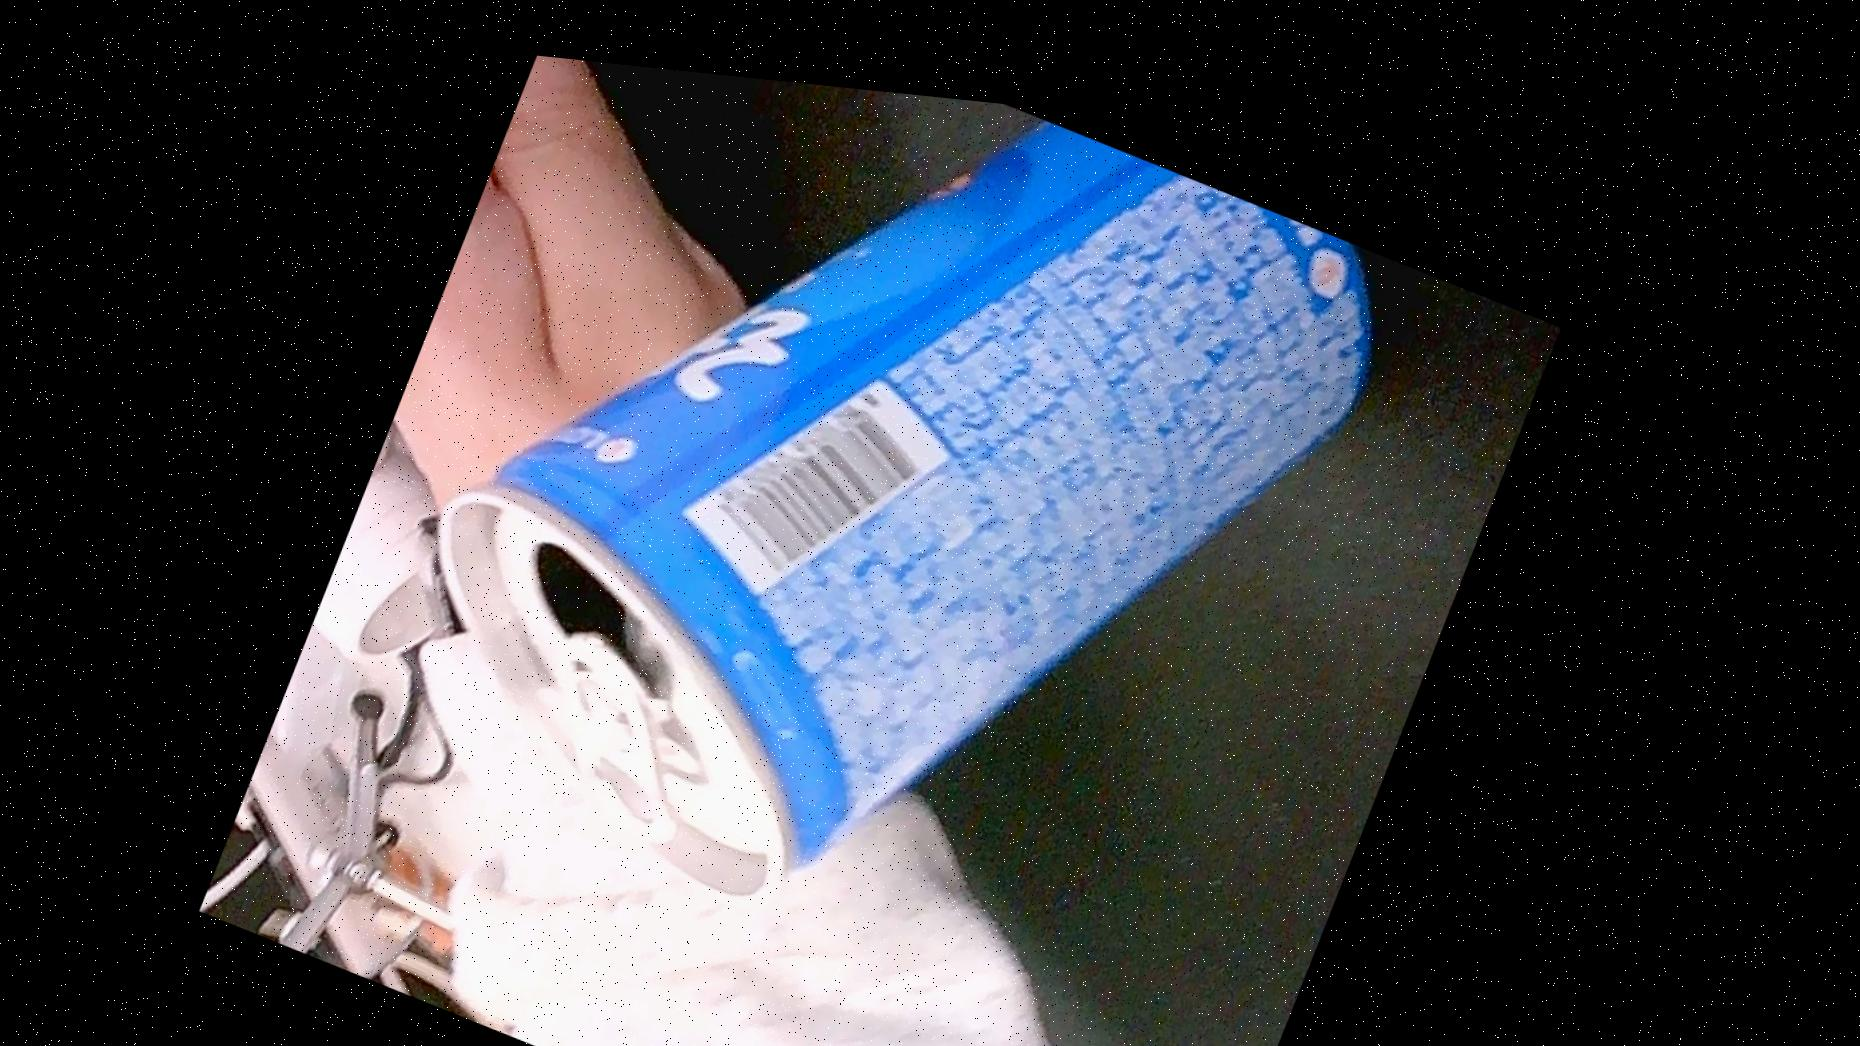letsbe: (344, 33, 1423, 1042)
